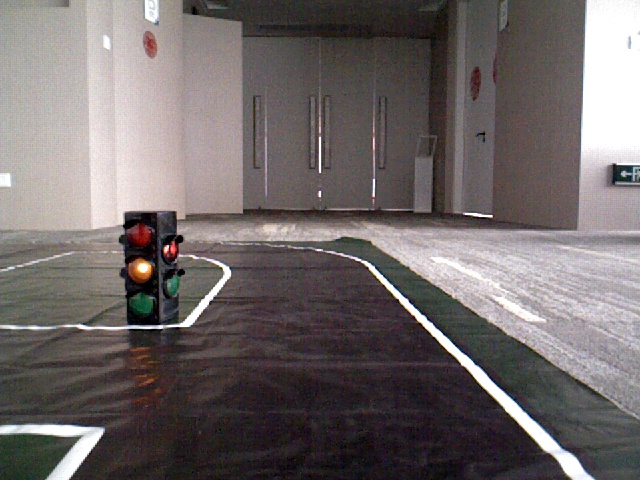yellow: (123, 215, 160, 318)
